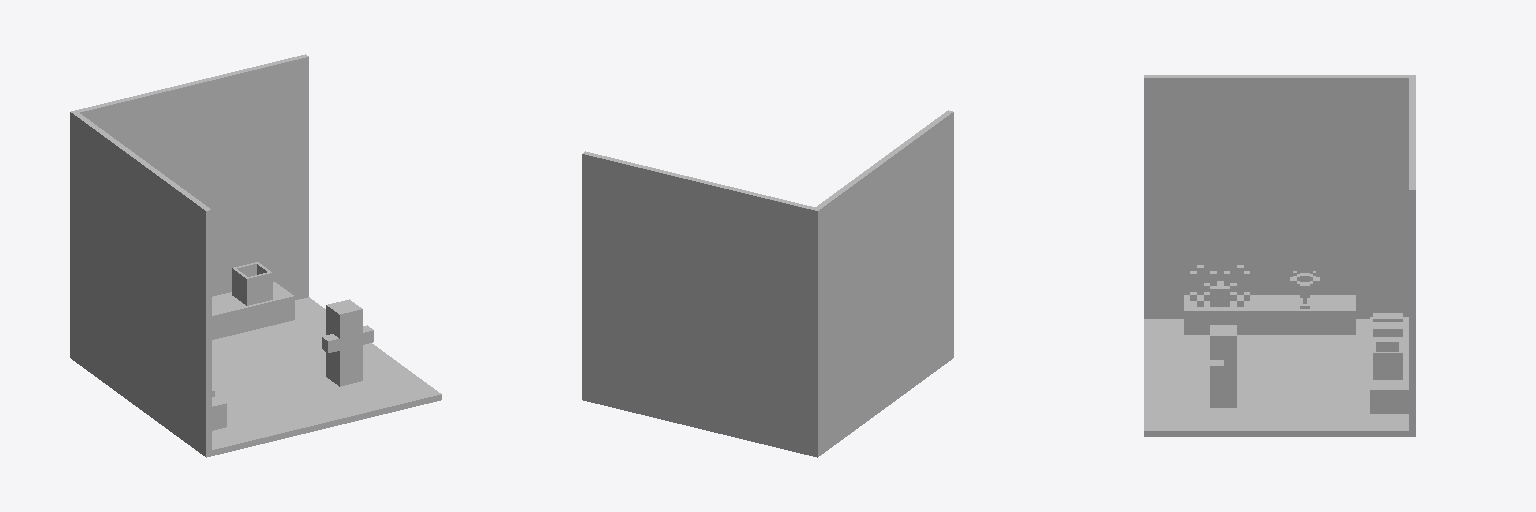
Rendered from a pope room.obj.
The picture shows the model from 3 angles: view 1: azimuth 30°, elevation 25°; view 2: azimuth 150°, elevation 25°; view 3: azimuth 270°, elevation 25°; orthographic projection.
Size of the model in its own units: 82 by 82 by 82.